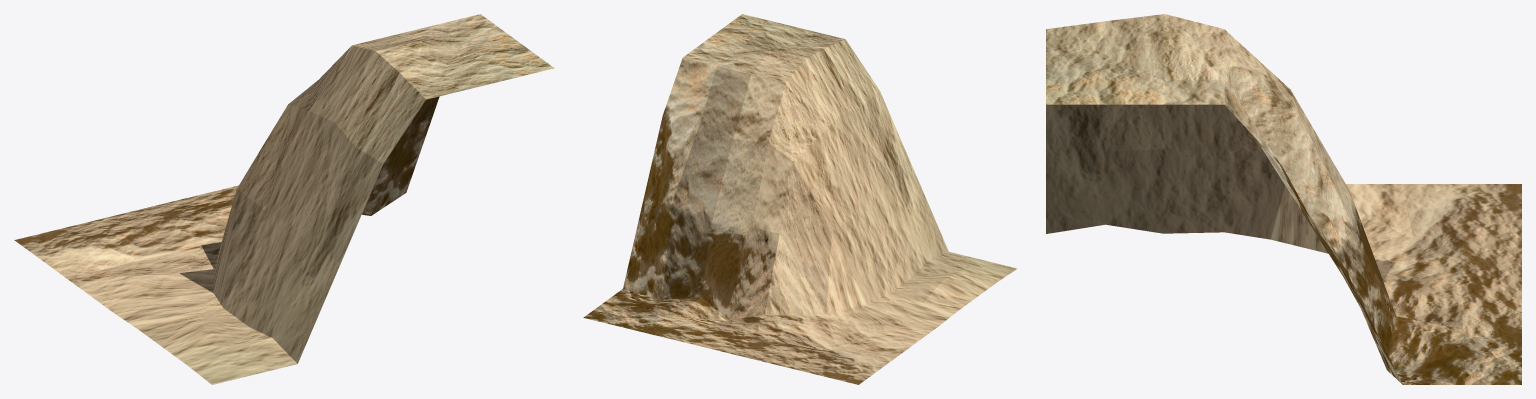
The model's file is MONTANHA_CANTO.glb.
The picture shows the model from 3 angles, left to right: view 1: azimuth 30°, elevation 25°; view 2: azimuth 150°, elevation 25°; view 3: azimuth 270°, elevation 25°; orthographic projection. The views are drawn at different scales.
Visible parts, largest first — view 1: MONTANHA_NOROESTE_Plano; view 2: MONTANHA_NOROESTE_Plano; view 3: MONTANHA_NOROESTE_Plano.
Boxes of the visible parts, box(x1,y1,x2,y2) form: MONTANHA_NOROESTE_Plano: box(14, 14, 554, 384); MONTANHA_NOROESTE_Plano: box(583, 14, 1017, 384); MONTANHA_NOROESTE_Plano: box(1046, 14, 1521, 384).
Size of the model in its own units: 2 by 1.44 by 2.
1 material, 1 textured.
